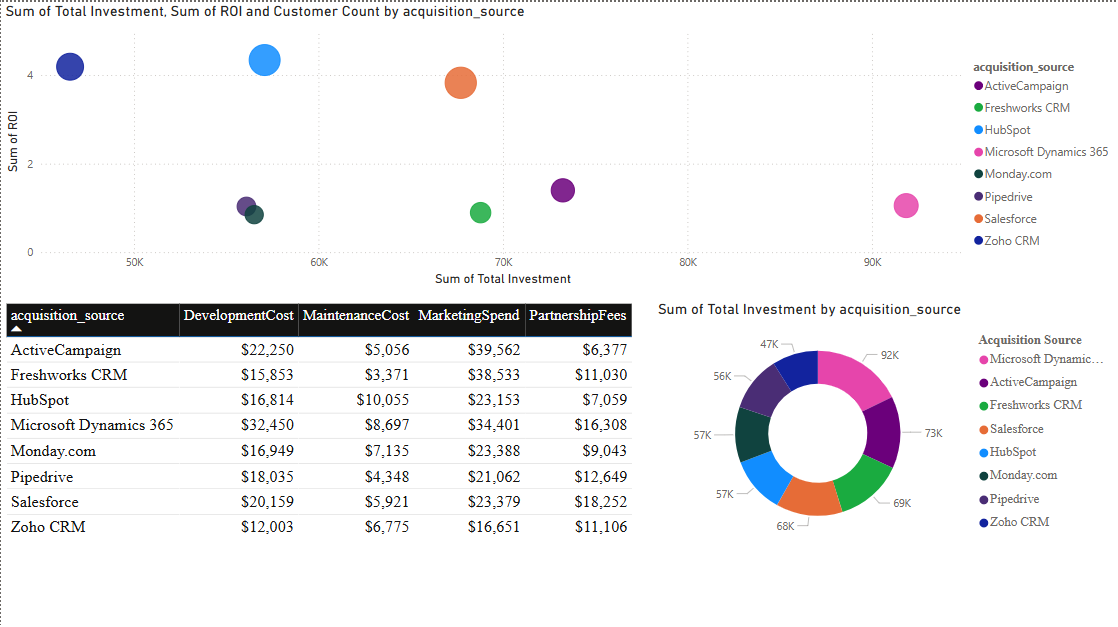

The page's visual inventory and layout, read from the dashboard file:
{"tool":"powerbi","page":{"name":"ROI vs Total Investment Scatter Plot","canvas":[1280,720],"ordinal":1},"visuals":[{"type":"scatterChart","fields":{"X":["Sum(Calculated_table.Total Investment)"],"Y":["Sum(Calculated_table.ROI)"],"Series":["Calculated_table.acquisition_source"],"Size":["Calculated_table.Customer Count"]},"box":[0,0,1280,330],"z":0},{"type":"tableEx","fields":{"Values":["Calculated_table.acquisition_source","Calculated_table.DevelopmentCost","Calculated_table.MaintenanceCost","Calculated_table.MarketingSpend","Calculated_table.PartnershipFees"]},"box":[0,340,745.7,287.1],"z":1000},{"type":"donutChart","fields":{"Category":["Calculated_table.acquisition_source"],"Y":["Sum(Calculated_table.Total Investment)"]},"box":[746,340,534,287],"z":2000}]}

Visuals, with their boxes in screenshot pixels (x1, y1, x2, y2), scaled from the page's 1280x720 canvas onto the 1118x627 screenshot:
scatterChart - Sum(Calculated_table.Total Investment) x Sum(Calculated_table.ROI): [left=0, top=0, right=1117, bottom=287]
tableEx - Calculated_table.acquisition_source x Calculated_table.DevelopmentCost: [left=0, top=296, right=651, bottom=546]
donutChart - Calculated_table.acquisition_source x Sum(Calculated_table.Total Investment): [left=652, top=296, right=1117, bottom=546]
